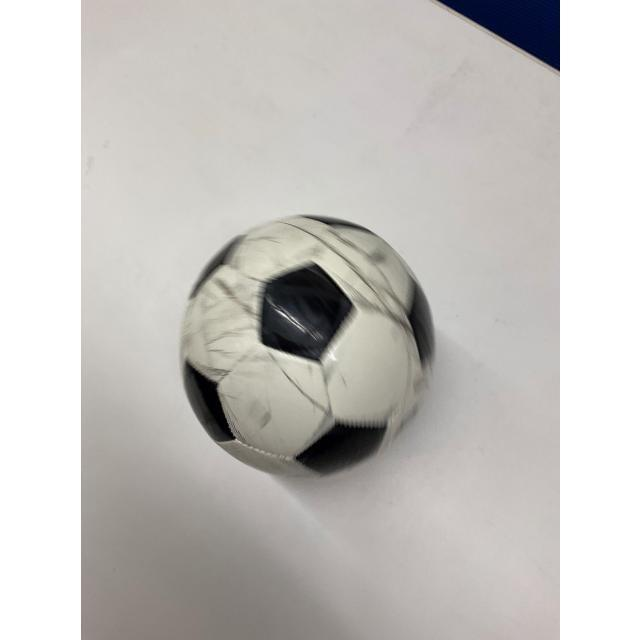Sports-Ball: (182, 216, 434, 474)
